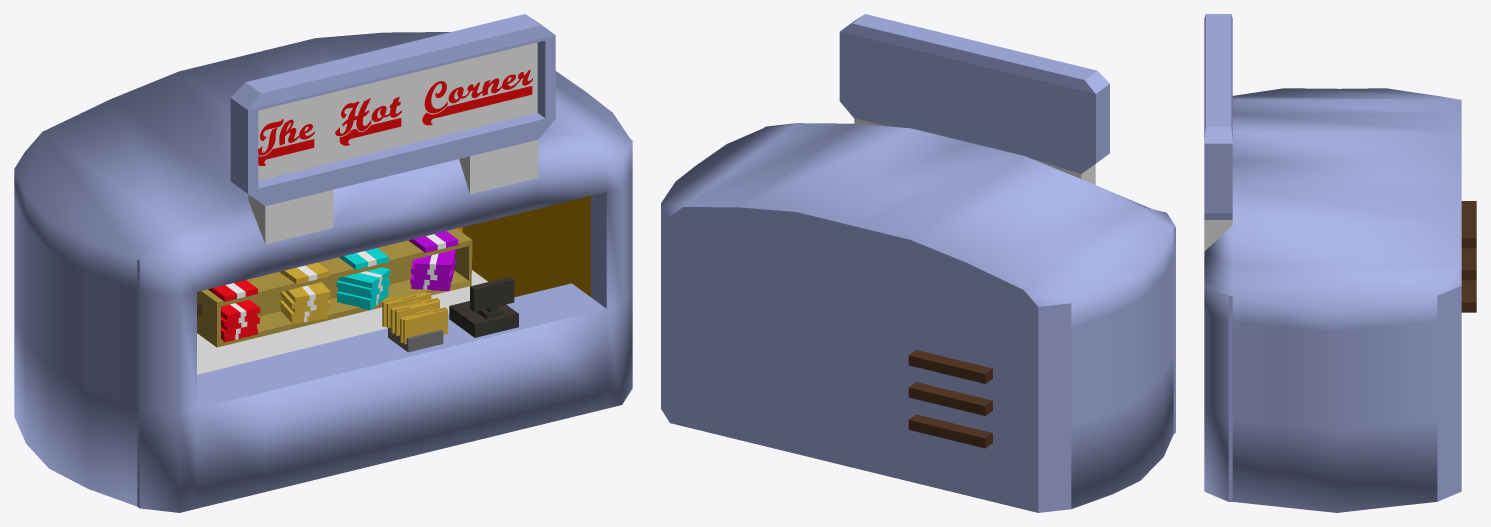
Rendered from PlayerShop.fbx.
3 renders of one model, left to right at view 1: azimuth 30°, elevation 25°; view 2: azimuth 150°, elevation 25°; view 3: azimuth 270°, elevation 25°, orthographic. The views are drawn at different scales.
Visible parts, largest first — view 1: Cube, Cube.001, Cube.002, Text; view 2: Cube; view 3: Cube.
Part boxes in pixels (x1,y1,x2,y2): Cube: [14, 14, 632, 512]; Cube.001: [197, 228, 472, 347]; Cube.002: [382, 277, 518, 352]; Text: [258, 70, 532, 165]; Cube: [661, 14, 1175, 512]; Cube: [1204, 14, 1476, 512].
Size of the model in its own units: 1557 by 1118 by 824.
